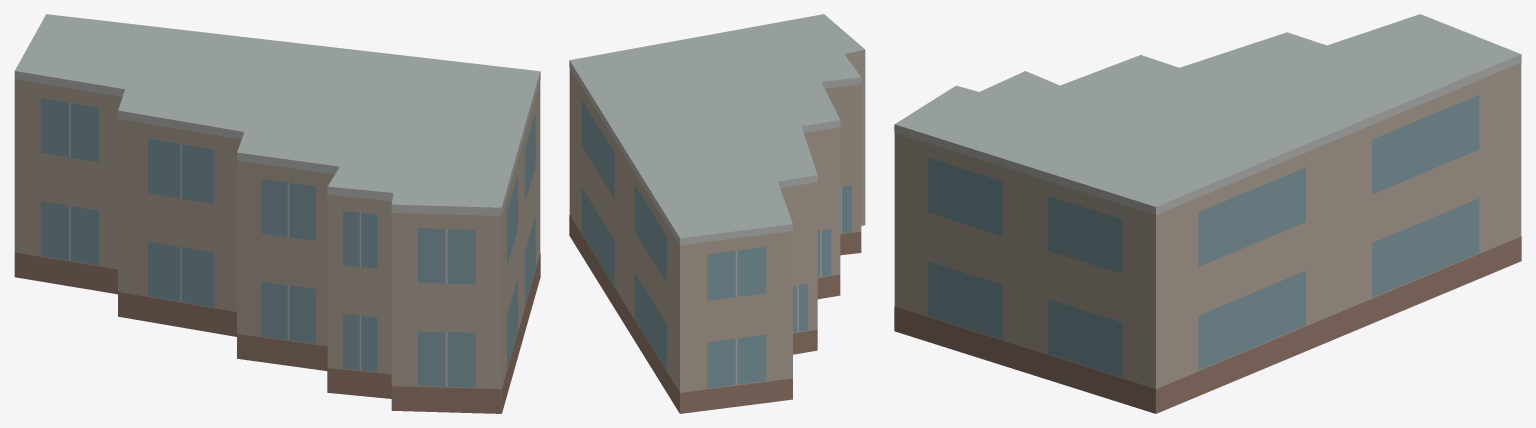
File: survey-upis-32525518.glb
3 renders of one model, left to right at view 1: azimuth 30°, elevation 25°; view 2: azimuth 150°, elevation 25°; view 3: azimuth 270°, elevation 25°, orthographic. The views are drawn at different scales.
Parts seen in each view (by area): view 1: survey-upis-32525518.tmp; view 2: survey-upis-32525518.tmp; view 3: survey-upis-32525518.tmp.
Boxes of the visible parts, box(x1,y1,x2,y2) form: survey-upis-32525518.tmp: box(14, 14, 540, 413); survey-upis-32525518.tmp: box(569, 14, 865, 413); survey-upis-32525518.tmp: box(894, 14, 1521, 413).
Bounding box in the file's own units: 12.21 × 6.1 × 16.76.
